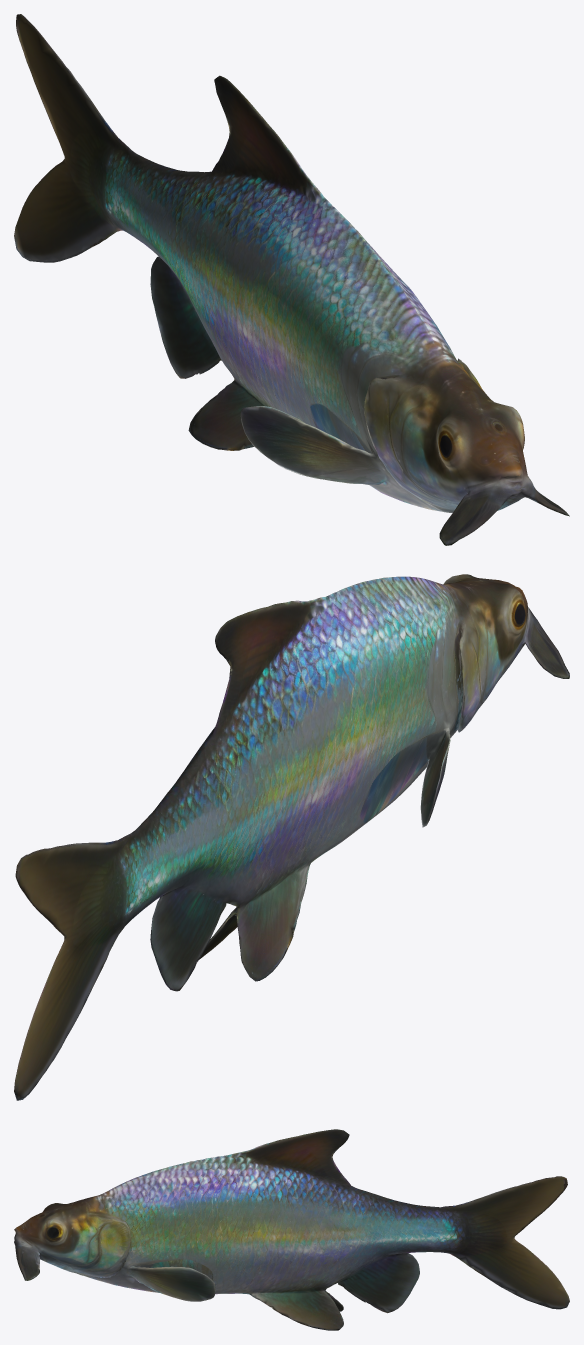
File: Kaviat_0604061929_texture.glb
The picture shows the model from 3 angles, top to bottom: view 1: azimuth 30°, elevation 25°; view 2: azimuth 150°, elevation 25°; view 3: azimuth 270°, elevation 25°; orthographic projection. The views are drawn at different scales.
Size of the model in its own units: 0.4396 by 0.759 by 1.99.
Materials: 1 (1 with a texture image).
